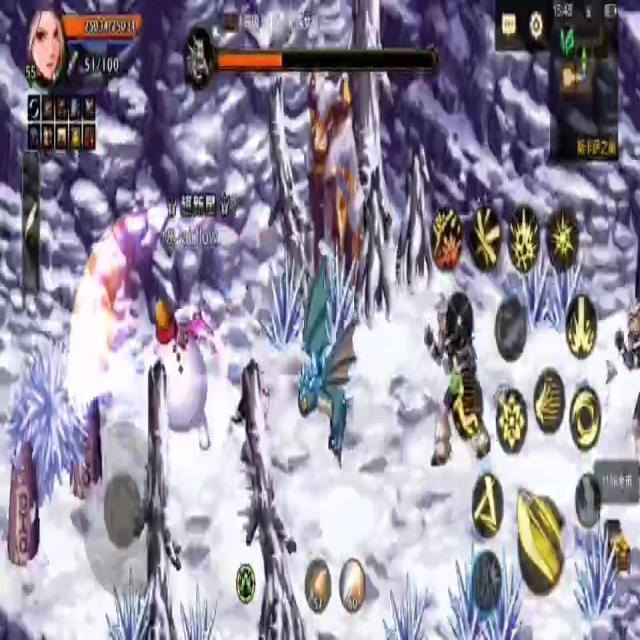player: (146, 293, 218, 460)
